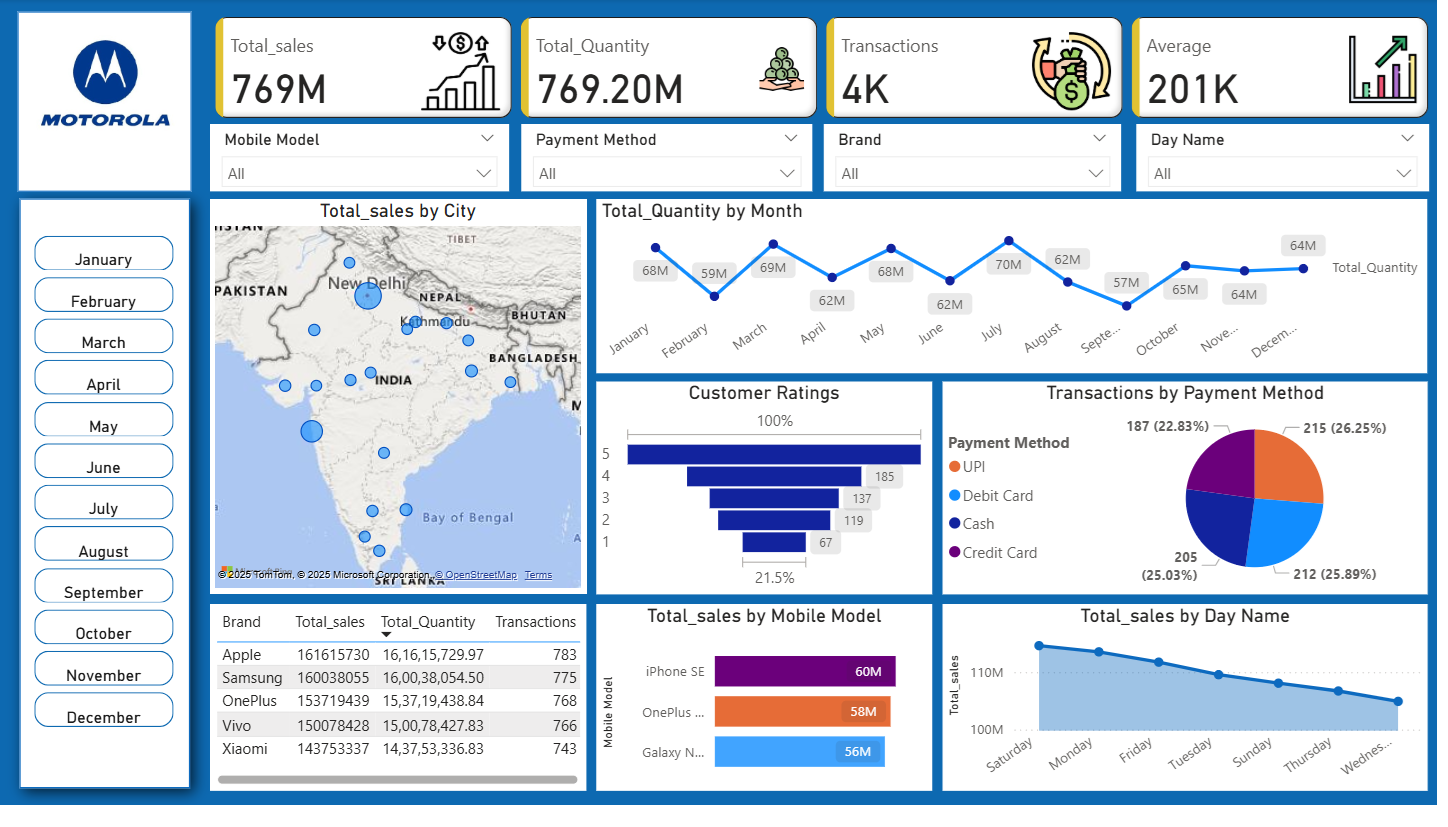

Layout of this report page (visuals, bound fields, positions):
{"tool":"powerbi","page":{"name":"Page 1","canvas":[1280,720],"ordinal":0},"visuals":[{"type":"shape","box":[0,160.5,186.6,559.9],"z":0},{"type":"advancedSlicerVisual","fields":{"Values":["Sales_Data.Date.Variation.Date Hierarchy.Month"]},"box":[23.3,203.5,138.4,462.8],"z":1000},{"type":"cardVisual","fields":{"Data":["Sales_Data.Total_sales","Sales_Data.Total_Quantity","Sales_Data.Transactions","Sales_Data.Average"]},"box":[186.6,11,1093.7,100.2],"z":2000},{"type":"map","fields":{"Category":["Sales_Data.City"],"Size":["Sales_Data.Total_sales"]},"box":[186.6,178.4,334.8,351.3],"z":3000},{"type":"shape","box":[15.1,11,155.1,160.5],"z":4000},{"type":"image","box":[22.9,17.1,141.4,115.7],"z":5000},{"type":"lineChart","fields":{"Category":["Sales_Data.Date.Variation.Date Hierarchy.Month","Sales_Data.Date.Variation.Date Hierarchy.Day"],"Y":["Sales_Data.Total_Quantity"]},"box":[531,178.4,739.6,155.1],"z":6000},{"type":"barChart","fields":{"Category":["Sales_Data.Mobile Model"],"Y":["Sales_Data.Total_sales"]},"box":[531,539.3,299.1,166],"z":7000},{"type":"pieChart","fields":{"Category":["Sales_Data.Payment Method"],"Y":["Sales_Data.Transactions"]},"box":[839.8,340.3,432.2,189.4],"z":8000},{"type":"funnel","title":"Customer Ratings","fields":{"Category":["Sales_Data.Customer Ratings"],"Y":["CountNonNull(Sales_Data.Customer Ratings)"]},"box":[531,340.3,299.1,189.4],"z":9000},{"type":"areaChart","fields":{"Category":["Sales_Data.Day Name"],"Y":["Sales_Data.Total_sales"]},"box":[839.8,539.3,432.2,166],"z":10000},{"type":"tableEx","fields":{"Values":["Sales_Data.Brand","Sales_Data.Total_sales","Sales_Data.Total_Quantity","Sales_Data.Transactions"]},"box":[186.6,539.3,334.8,166],"z":11000},{"type":"slicer","fields":{"Values":["Sales_Data.Mobile Model"]},"box":[186.6,111.1,266.2,60.4],"z":12000},{"type":"slicer","fields":{"Values":["Sales_Data.Payment Method"]},"box":[463.8,111.1,259.3,60.4],"z":13000},{"type":"slicer","fields":{"Values":["Sales_Data.Brand"]},"box":[734.1,111.1,264.8,60.4],"z":14000},{"type":"slicer","fields":{"Values":["Sales_Data.Day Name"]},"box":[1011.3,111.1,260.7,60.4],"z":15000}]}

Visuals, with their boxes in screenshot pixels (x1, y1, x2, y2), scaled from the page's 1280x720 canvas onto the 1448x827 screenshot:
shape: 0/184/211/826
advancedSlicerVisual - Sales_Data.Date.Variation.Date Hierarchy.Month: 26/234/183/765
cardVisual - Sales_Data.Total_sales x Sales_Data.Total_Quantity: 211/13/1447/128
map - Sales_Data.City x Sales_Data.Total_sales: 211/205/590/608
shape: 17/13/193/197
image: 26/20/186/153
lineChart - Sales_Data.Date.Variation.Date Hierarchy.Month x Sales_Data.Date.Variation.Date Hierarchy.Day: 601/205/1437/383
barChart - Sales_Data.Mobile Model x Sales_Data.Total_sales: 601/619/939/810
pieChart - Sales_Data.Payment Method x Sales_Data.Transactions: 950/391/1439/608
"Customer Ratings" funnel: 601/391/939/608
areaChart - Sales_Data.Day Name x Sales_Data.Total_sales: 950/619/1439/810
tableEx - Sales_Data.Brand x Sales_Data.Total_sales: 211/619/590/810
slicer - Sales_Data.Mobile Model: 211/128/512/197
slicer - Sales_Data.Payment Method: 525/128/818/197
slicer - Sales_Data.Brand: 830/128/1130/197
slicer - Sales_Data.Day Name: 1144/128/1439/197
